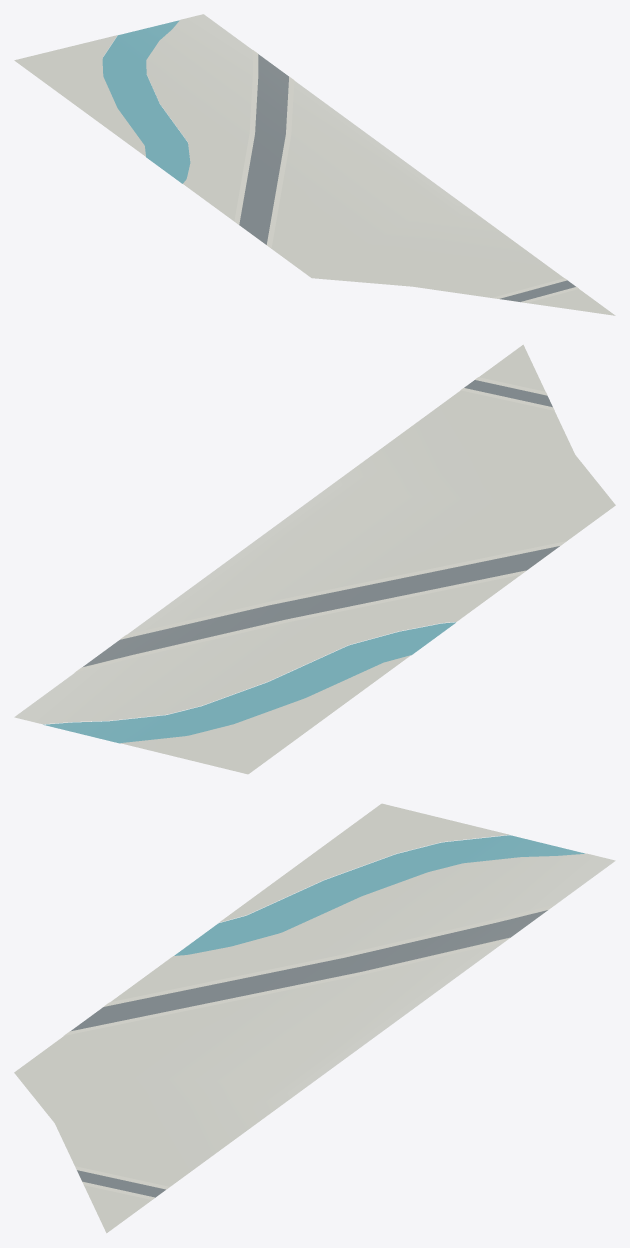
3 renders of one model, top to bottom at view 1: azimuth 30°, elevation 25°; view 2: azimuth 150°, elevation 25°; view 3: azimuth 330°, elevation 25°, orthographic. The views are drawn at different scales.
Visible parts, largest first — view 1: city; view 2: city; view 3: city.
Part boxes in pixels (x1,y1,x2,y2): city: (14, 14, 615, 315); city: (14, 344, 615, 774); city: (14, 803, 615, 1233).
Size of the model in its own units: 121 by 0.4 by 454.
